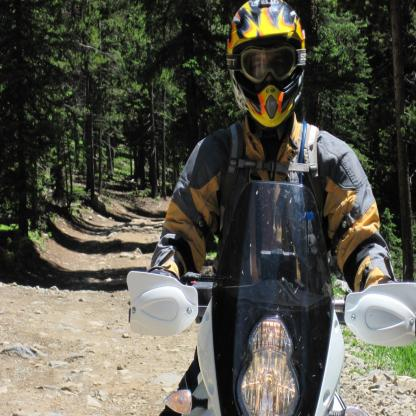Helmet: (228, 3, 308, 150)
